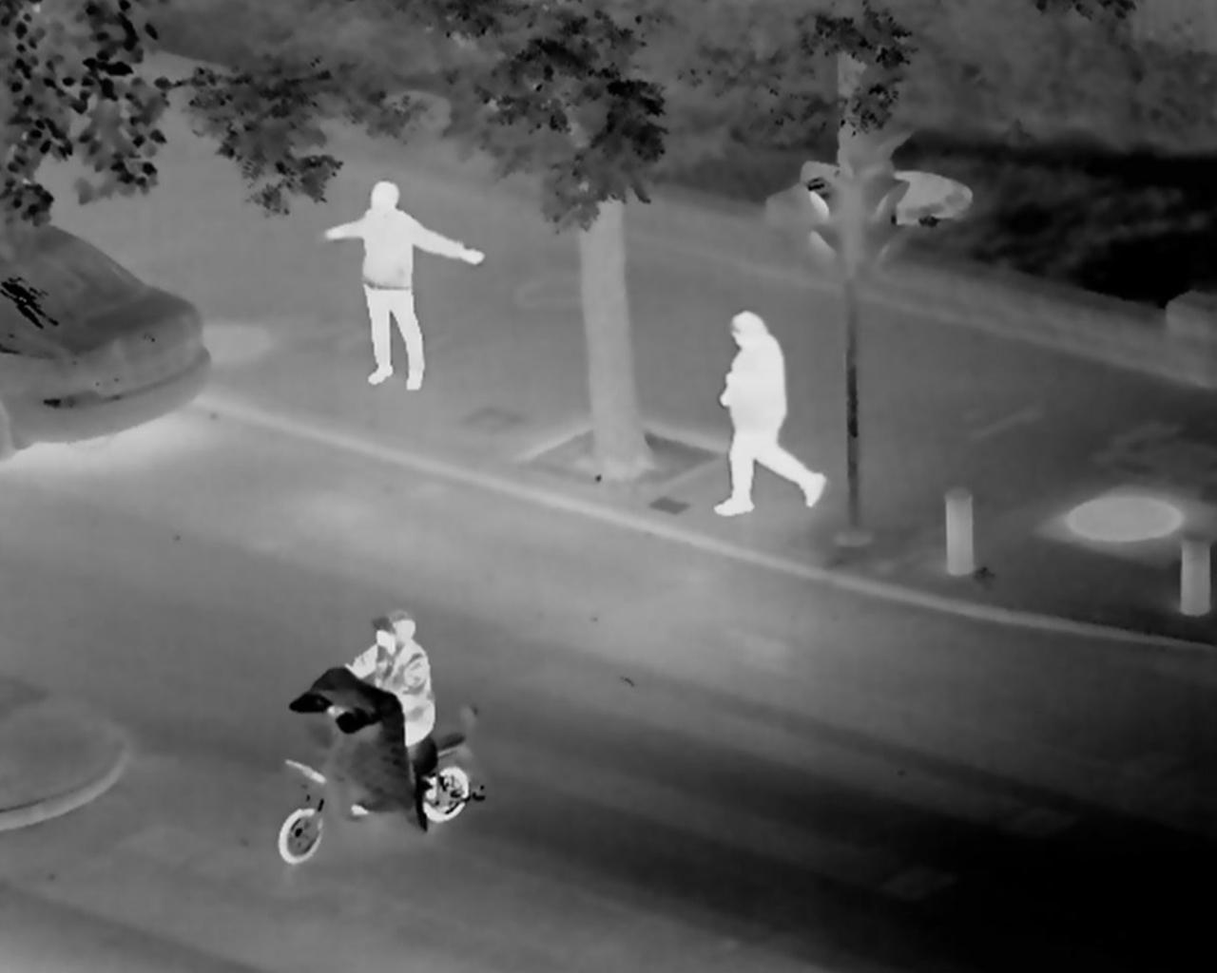person: (306, 167, 501, 388), (707, 305, 861, 527), (341, 601, 453, 806)
